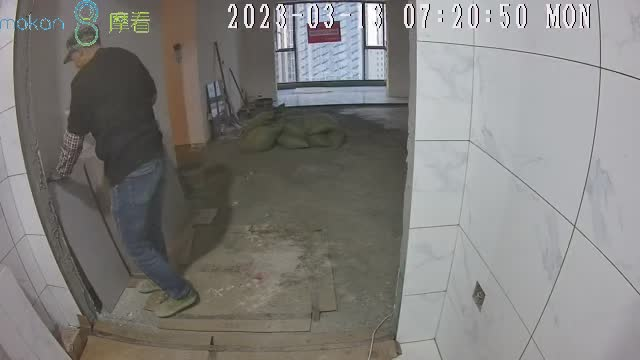people: (47, 24, 199, 317)
window: (276, 4, 387, 86)
